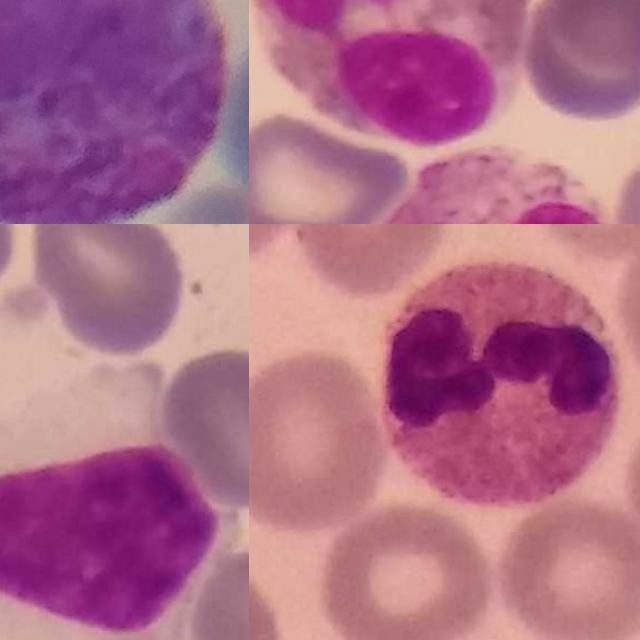Basophil: (0, 0, 229, 224)
Eosinophil: (249, 0, 534, 144), (345, 146, 640, 224)
Lymphocyte: (0, 381, 221, 640)
Neutrophil: (381, 259, 621, 510)
